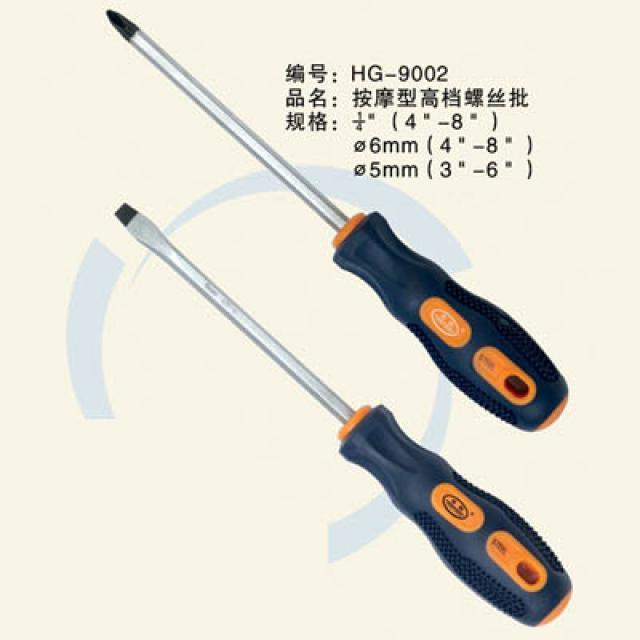screwdriver: (106, 186, 581, 634), (94, 3, 576, 435)
